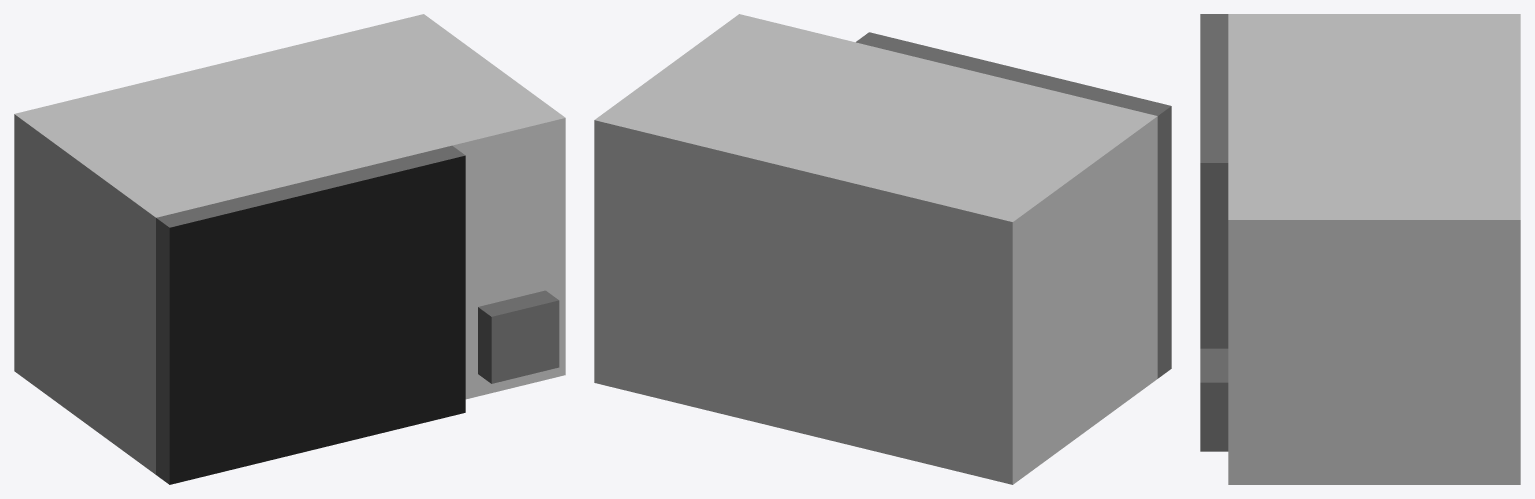
Rendered from microwave.fbx.
3 renders of one model, left to right at view 1: azimuth 30°, elevation 25°; view 2: azimuth 150°, elevation 25°; view 3: azimuth 270°, elevation 25°, orthographic. The views are drawn at different scales.
Visible parts, largest first — view 1: pCube1; view 2: pCube1; view 3: pCube1.
Boxes of the visible parts, x1,y1,x2,y2 form: pCube1: (14,14,565,484); pCube1: (594,14,1171,484); pCube1: (1200,14,1520,484).
Bounding box in the file's own units: 6.25 × 3.75 × 4.11.
Materials: 1 (1 with a texture image).
